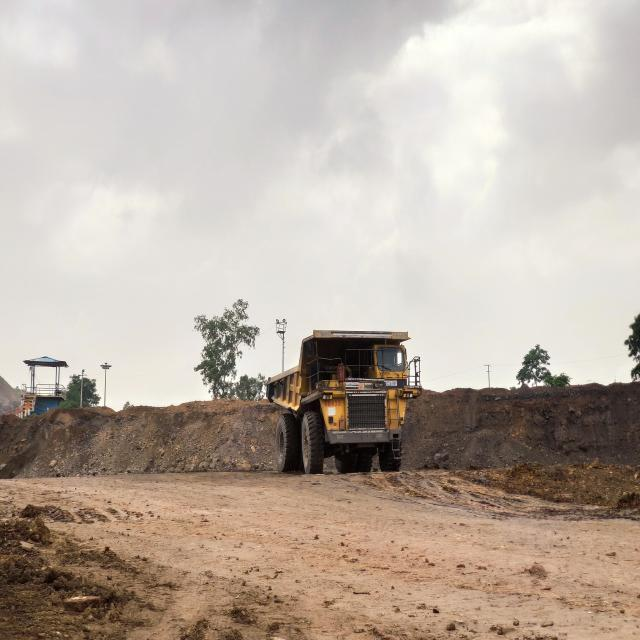dump_truck: (255, 333, 427, 477)
